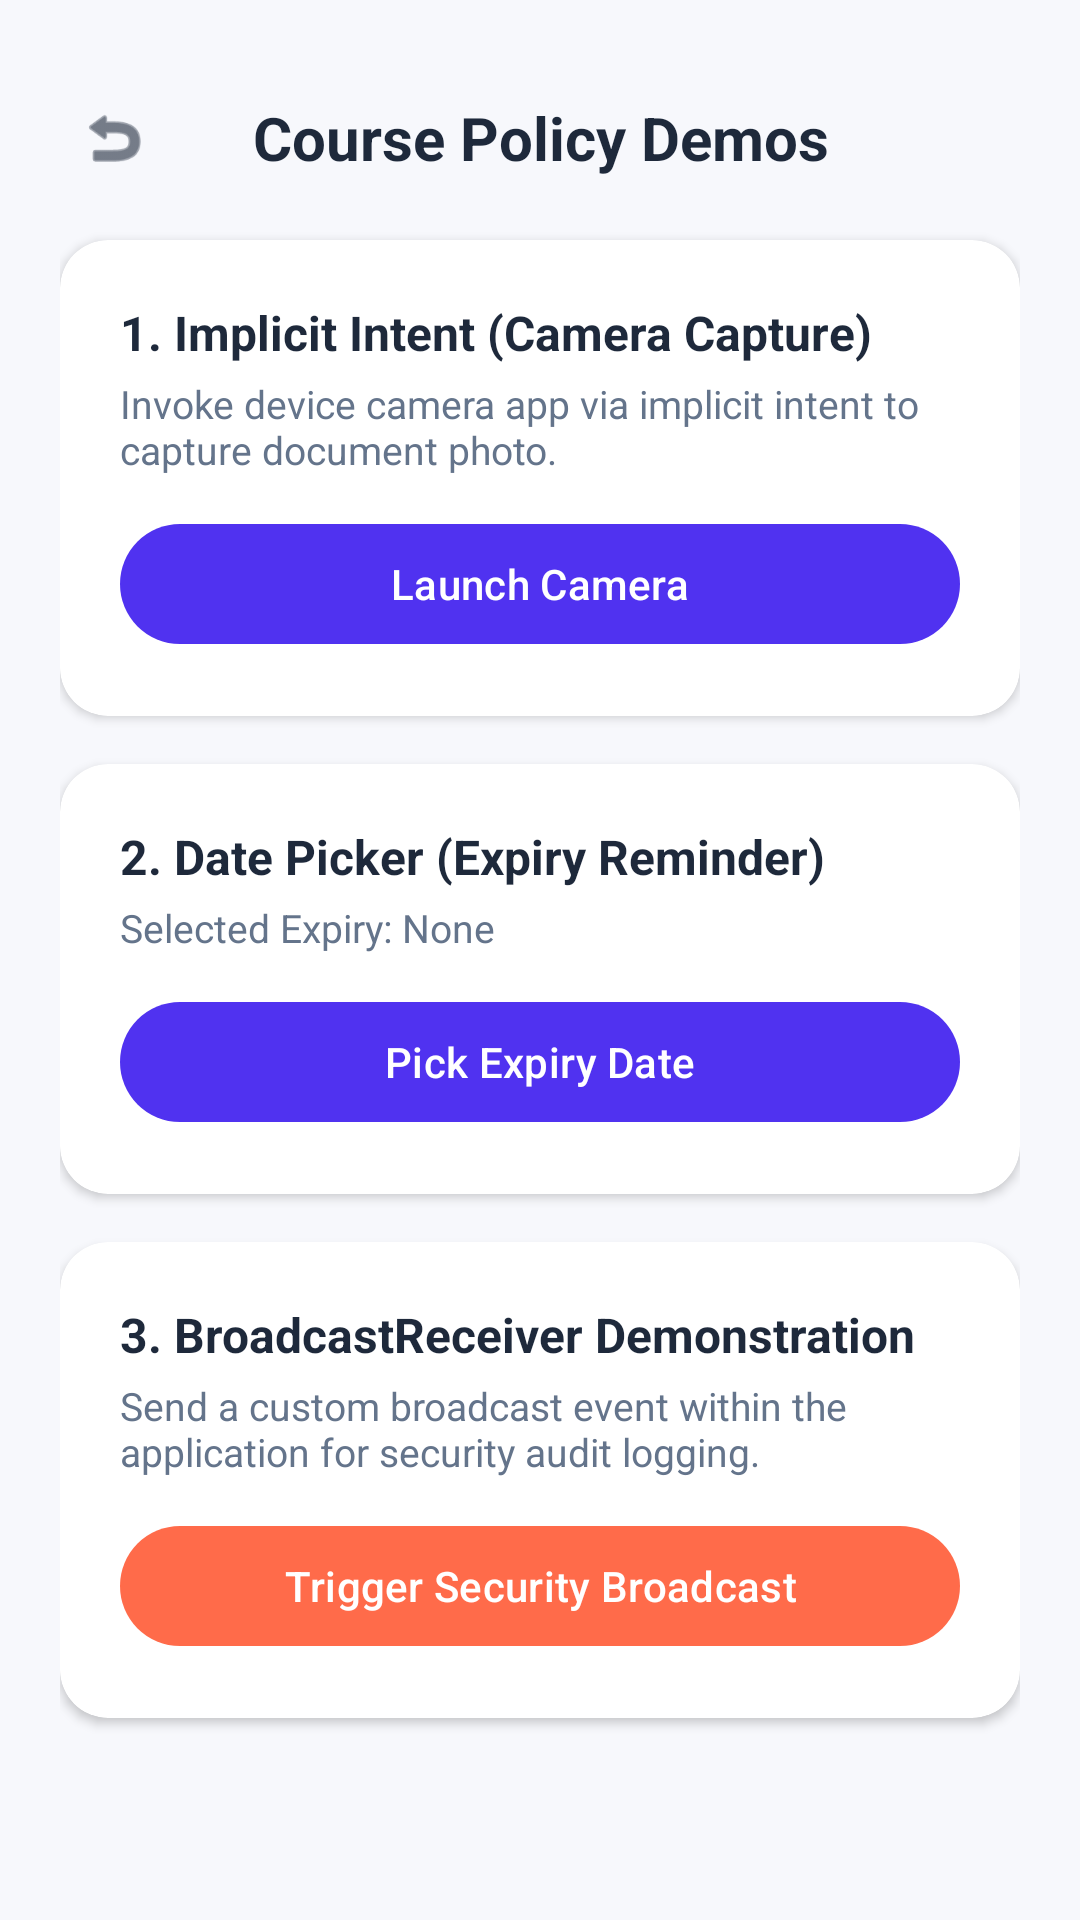

Icon bounding boxes for this 1080×1920 phone screenshot, format [x1, y1, x2, y2]:
Back: [89, 115, 141, 162]
